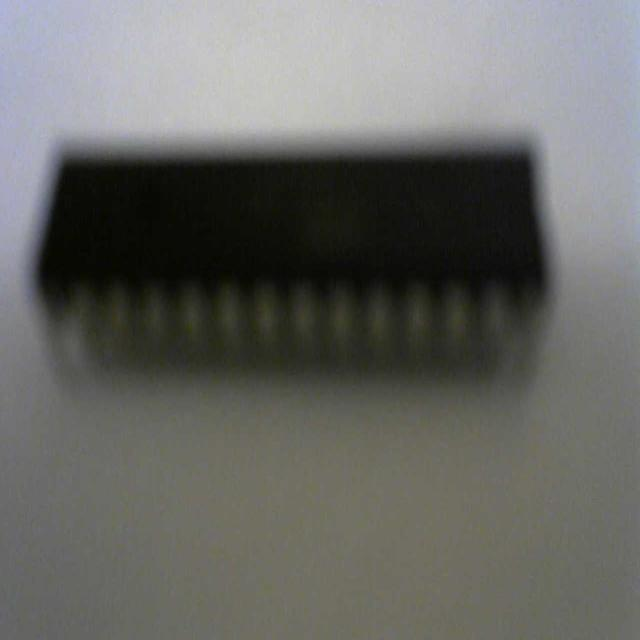atmega: (32, 130, 554, 392)
